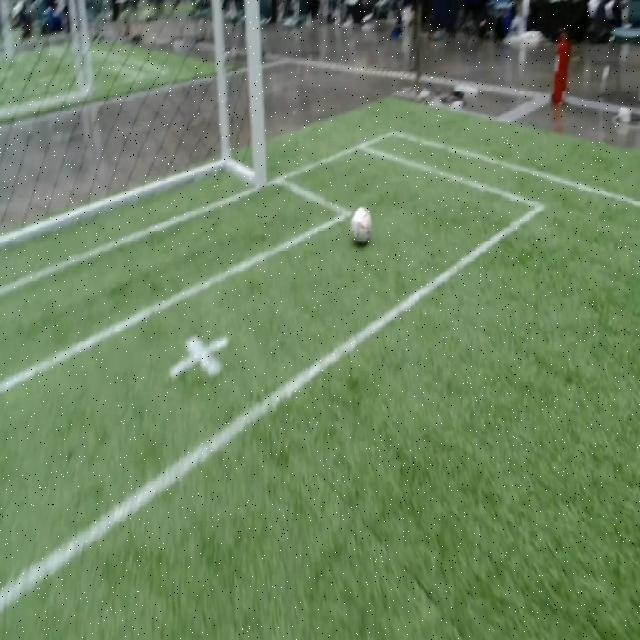ball: (350, 207, 372, 243)
goalpost: (250, 139, 268, 194)
